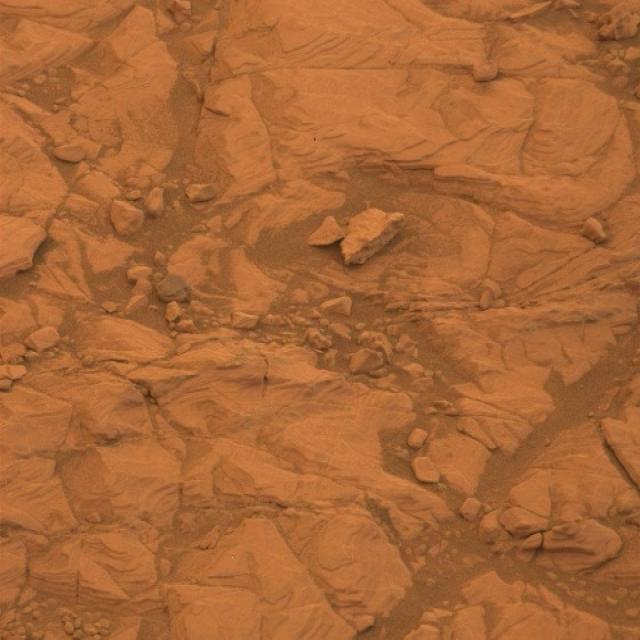mars-rocks: (341, 208, 404, 264)
